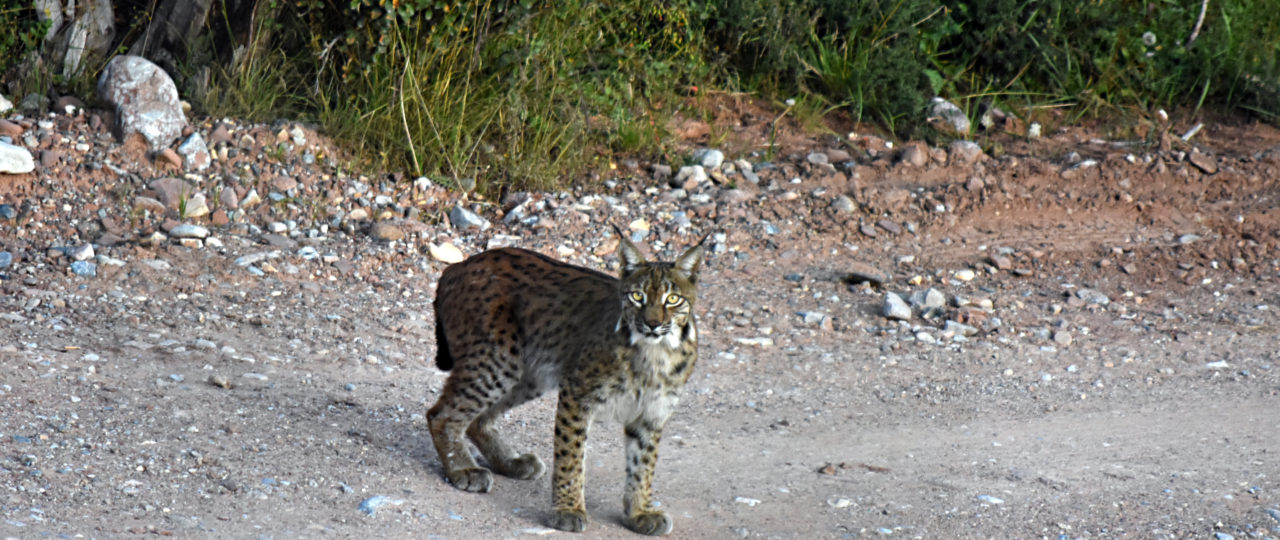cat: (412, 216, 718, 540)
